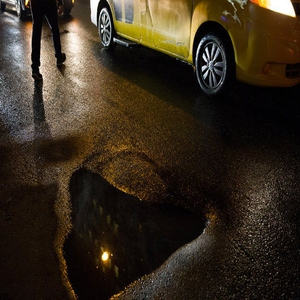pothole: (55, 161, 219, 300)
